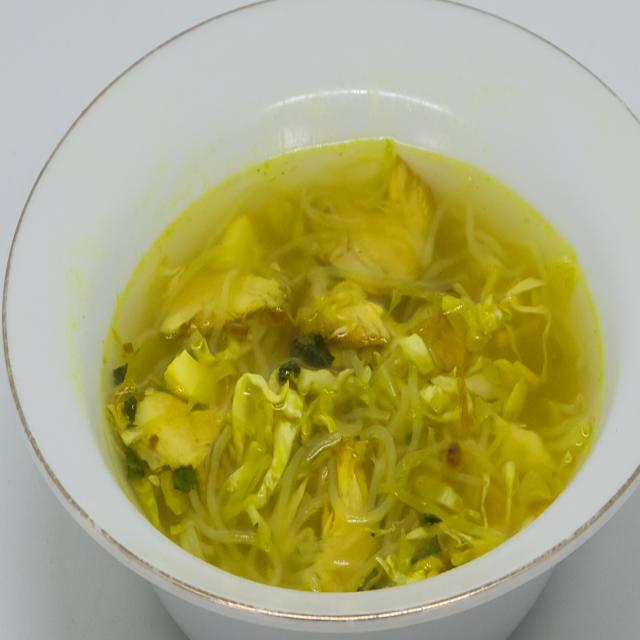Soto-Lamongan: (108, 108, 619, 600)
